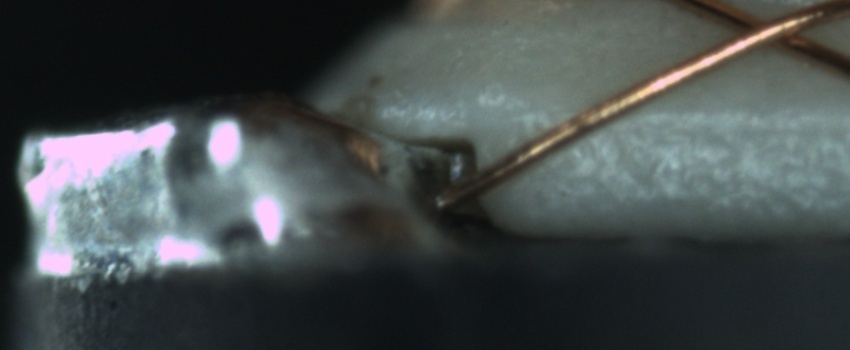CL: (701, 1, 830, 59)
DL: (556, 91, 844, 156)
